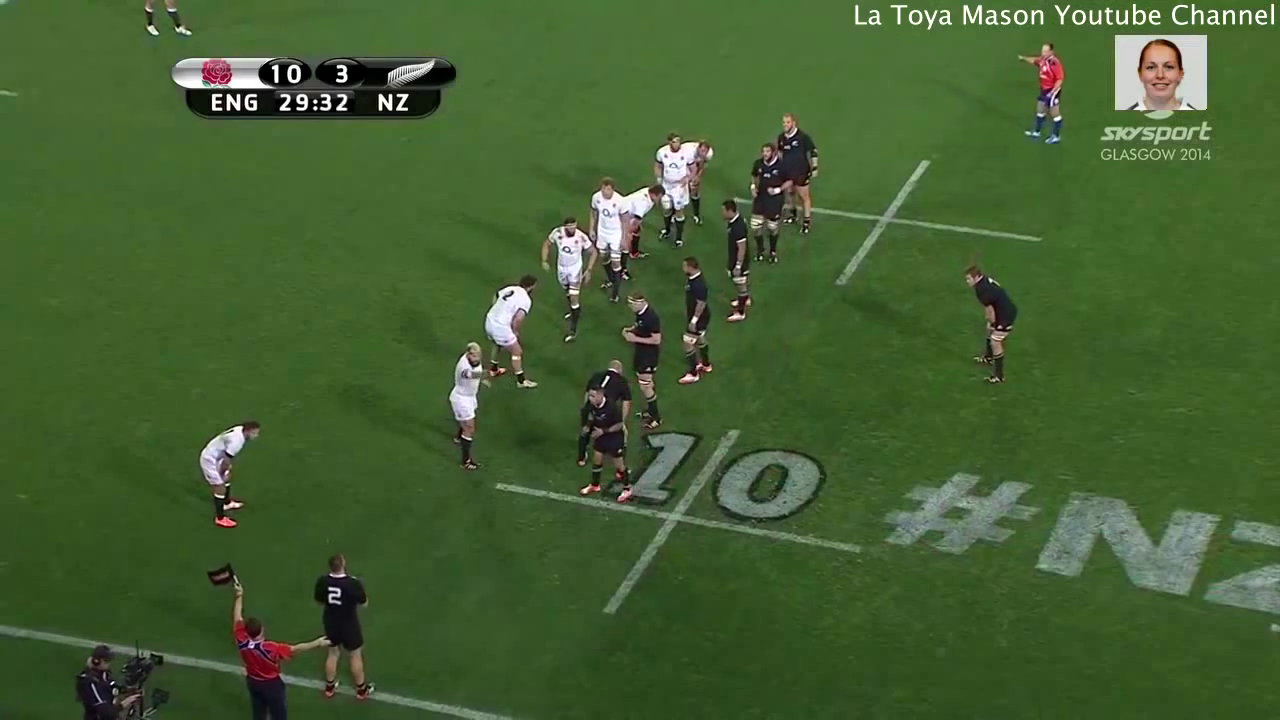10_metre: (486, 422, 873, 633), (706, 152, 1047, 293)
player: (202, 555, 335, 720), (299, 539, 393, 711), (609, 286, 681, 436), (187, 409, 269, 532), (528, 208, 597, 349), (957, 256, 1026, 392), (571, 376, 639, 513), (433, 333, 492, 480), (765, 107, 829, 240), (1009, 36, 1081, 153), (706, 186, 766, 324), (485, 262, 541, 404), (577, 167, 633, 308), (742, 135, 798, 276), (672, 252, 727, 394), (645, 122, 693, 250), (617, 171, 670, 271), (577, 350, 637, 420), (683, 124, 721, 192)
